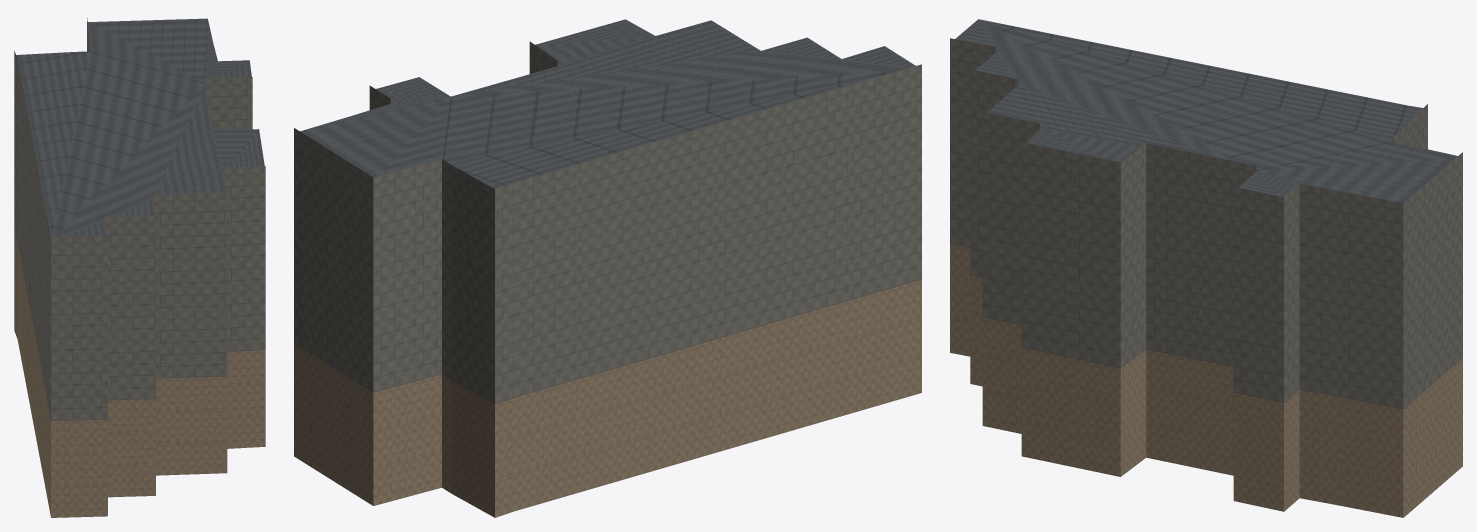
The model's file is core_0067.gltf.
3 renders of one model, left to right at view 1: azimuth 30°, elevation 25°; view 2: azimuth 150°, elevation 25°; view 3: azimuth 270°, elevation 25°, orthographic. The views are drawn at different scales.
Parts seen in each view (by area): view 1: core_0067; view 2: core_0067; view 3: core_0067.
Boxes of the visible parts, left/top/right/bottom form: core_0067: left=14, top=18, right=265, bottom=517; core_0067: left=294, top=19, right=921, bottom=517; core_0067: left=950, top=19, right=1462, bottom=517.
Size of the model in its own units: 19.09 by 14.78 by 21.84.
3 materials, 3 textured.
